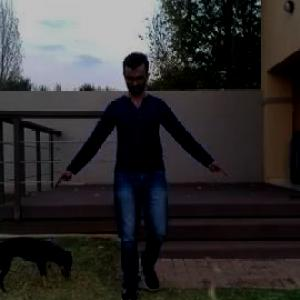land: (76, 71, 216, 293)
